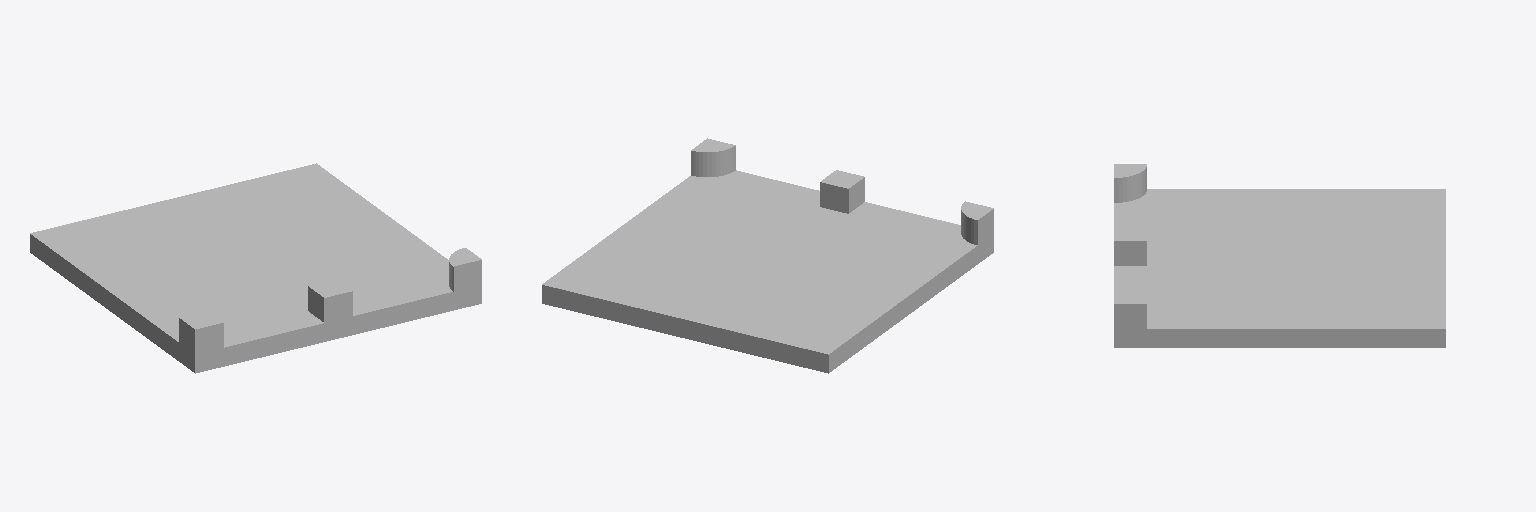
The model's file is Split_walls_to_open_01.obj.
The picture shows the model from 3 angles: view 1: azimuth 30°, elevation 25°; view 2: azimuth 150°, elevation 25°; view 3: azimuth 270°, elevation 25°; orthographic projection.
Parts seen in each view (by area): view 1: Mesh1 Split_walls_to_open Model; view 2: Mesh1 Split_walls_to_open Model; view 3: Mesh1 Split_walls_to_open Model.
Boxes of the visible parts, x1=… form: Mesh1 Split_walls_to_open Model: x1=30, y1=163, x2=481, y2=373; Mesh1 Split_walls_to_open Model: x1=542, y1=138, x2=993, y2=373; Mesh1 Split_walls_to_open Model: x1=1114, y1=164, x2=1445, y2=347.
Size of the model in its own units: 3 by 0.44 by 3.